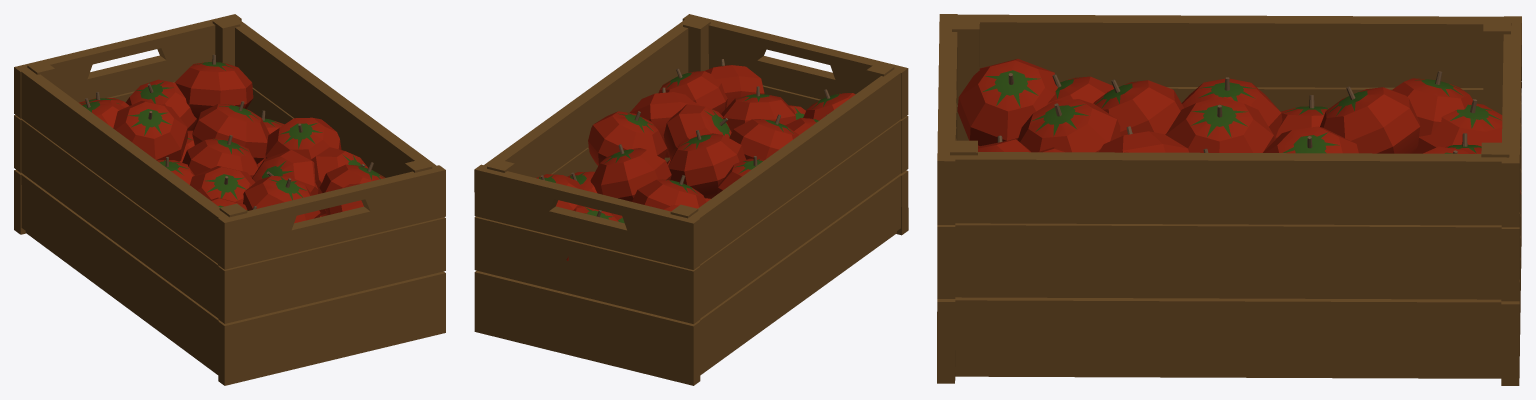
The model's file is Tomato_1.fbx.
The picture shows the model from 3 angles, left to right: view 1: azimuth 30°, elevation 25°; view 2: azimuth 150°, elevation 25°; view 3: azimuth 270°, elevation 25°; orthographic projection. The views are drawn at different scales.
Visible parts, largest first — view 1: Tomato_1; view 2: Tomato_1; view 3: Tomato_1.
Part boxes in pixels (x1,y1,x2,y2): Tomato_1: (14, 14, 445, 385); Tomato_1: (474, 14, 908, 385); Tomato_1: (937, 14, 1521, 385).
Size of the model in its own units: 68.98 by 48.98 by 115.
